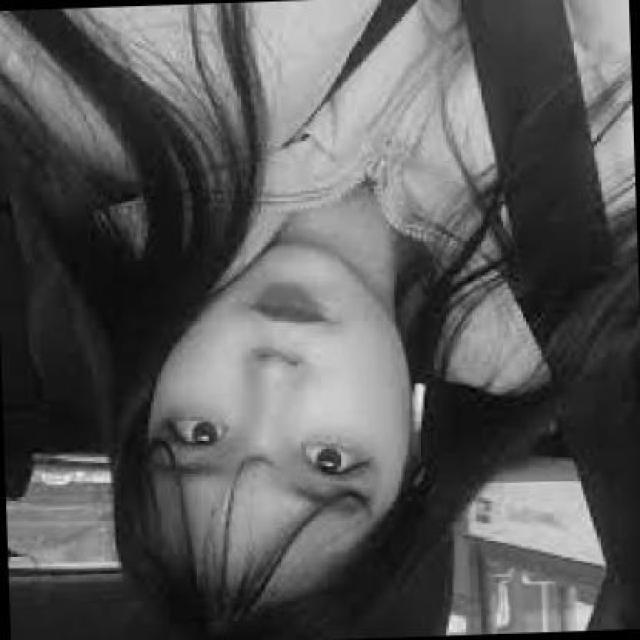earphone: (406, 371, 435, 446)
